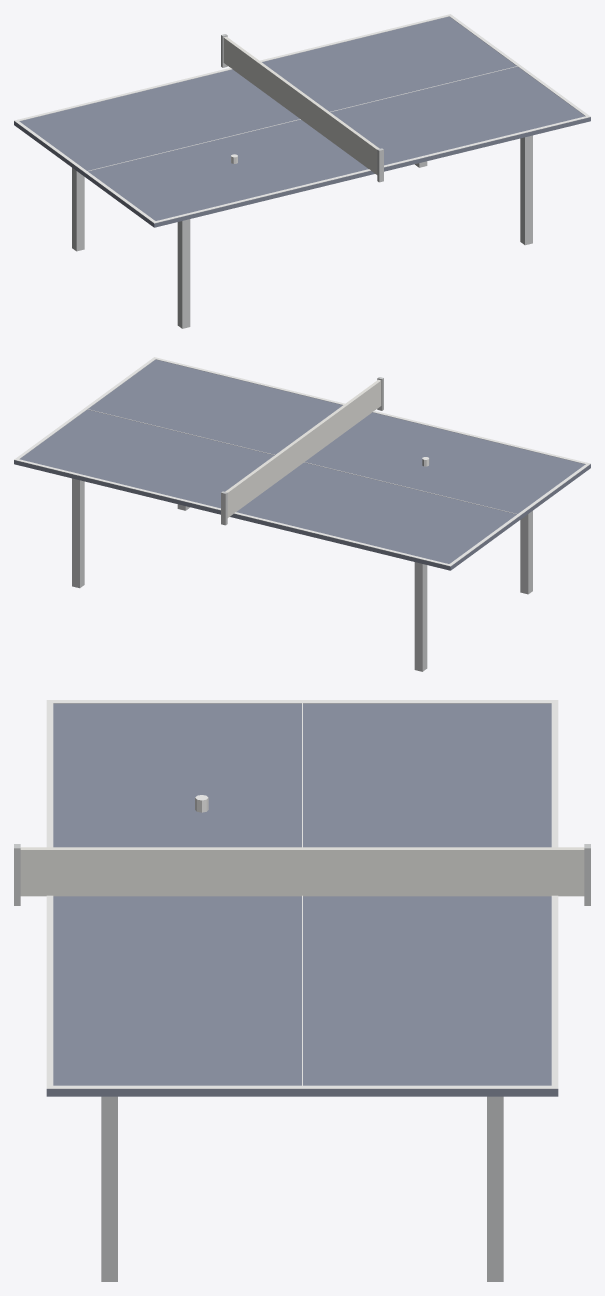
Rendered from TT_Table.fbx.
3 renders of one model, top to bottom at view 1: azimuth 30°, elevation 25°; view 2: azimuth 150°, elevation 25°; view 3: azimuth 270°, elevation 25°, orthographic. The views are drawn at different scales.
Parts seen in each view (by area): view 1: TT_Table; view 2: TT_Table; view 3: TT_Table.
Boxes of the visible parts, bbox=[...] form: TT_Table: bbox=[14, 14, 590, 328]; TT_Table: bbox=[14, 357, 590, 671]; TT_Table: bbox=[14, 700, 590, 1281].
Bounding box in the file's own units: 2.74 × 0.92 × 1.72.
